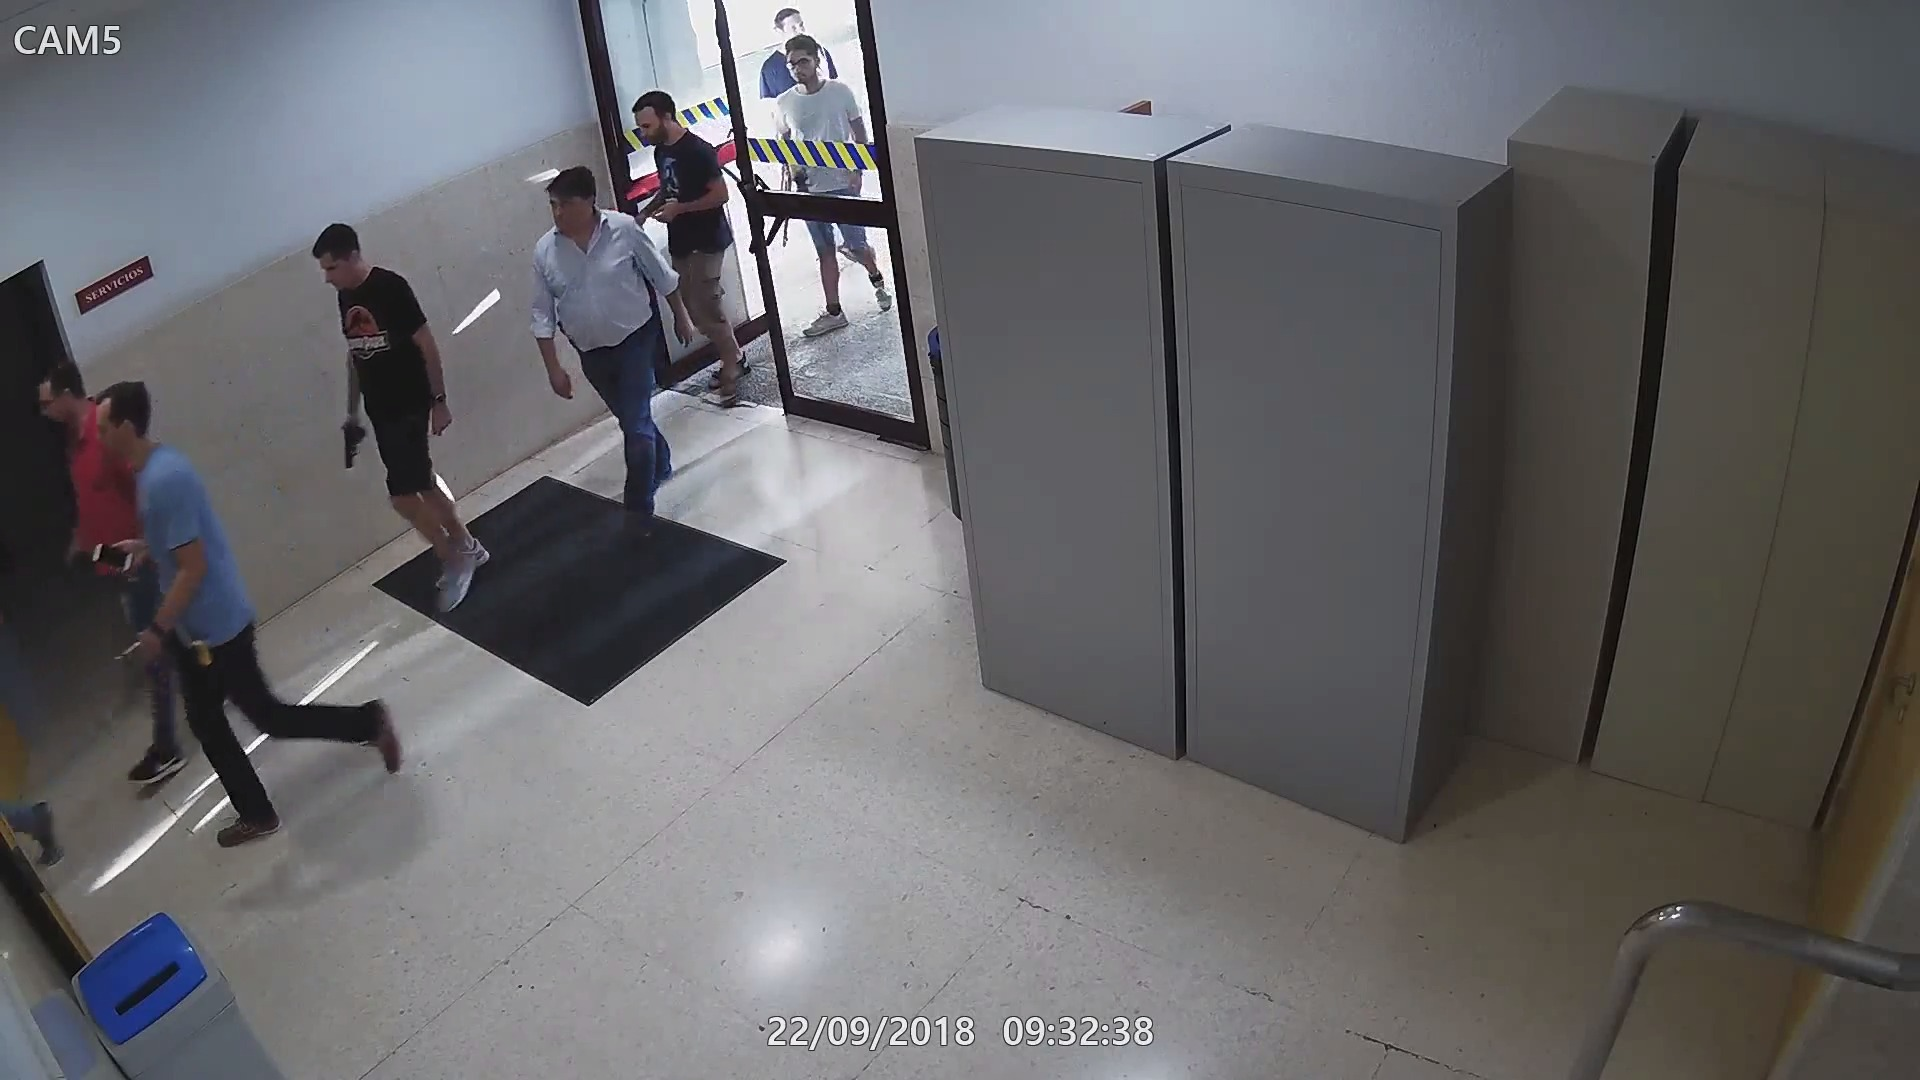Handgun: (111, 633, 165, 709), (335, 419, 367, 477), (634, 189, 675, 231)
